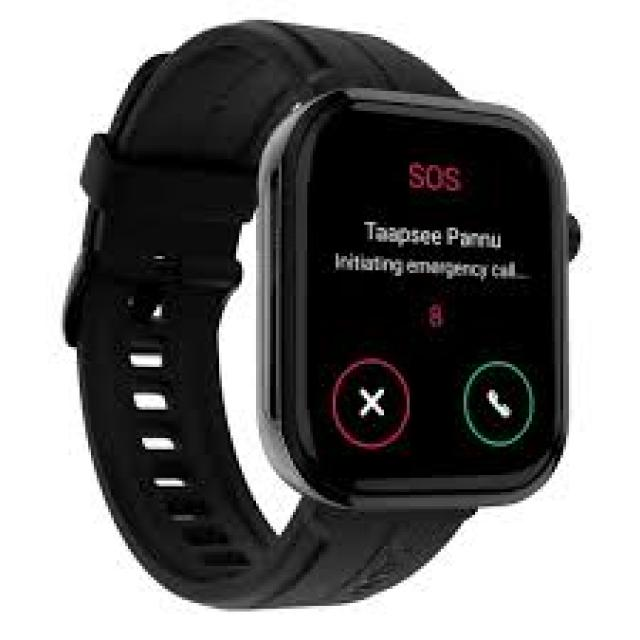objects: (63, 20, 564, 609)
